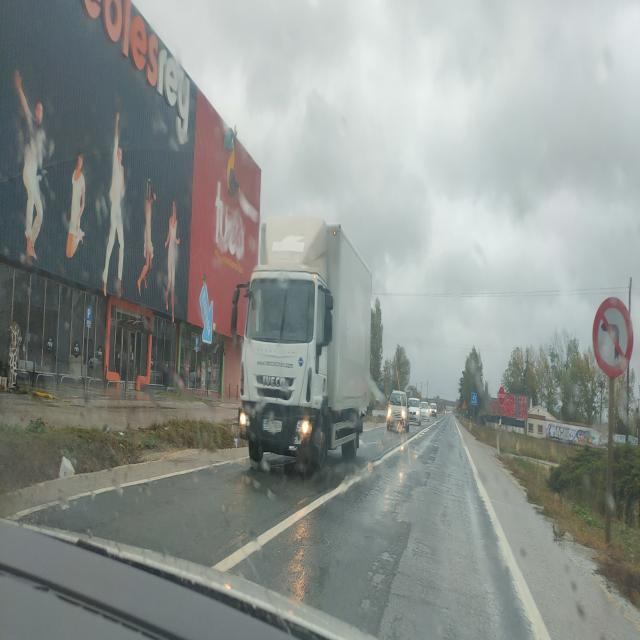Poth-hole: (355, 538, 400, 627), (383, 606, 407, 640)
